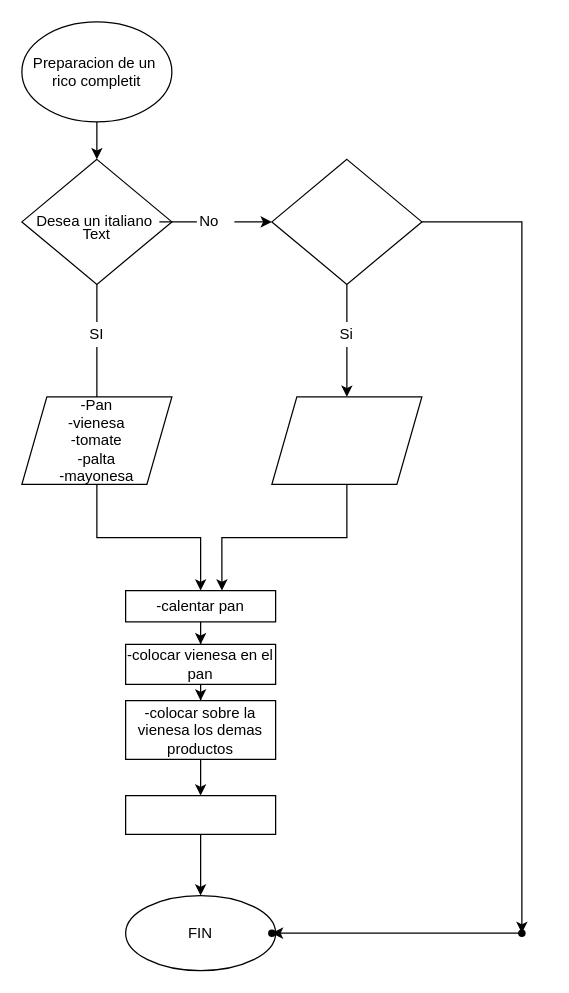
Some shapes in this 569 by 993 pixel diagram are drawn without their labels. The shapes that lost their labels are listed below. From the top down, each one's box as (x1, y1, x2, y2) in pixels, then its label:
(271, 158, 422, 284): Desea un chacarero
(271, 396, 422, 484): -Pan -vienesa -tomate -poroto verde /aji -mayonesa
(124, 794, 276, 834): -servir calentito completo
